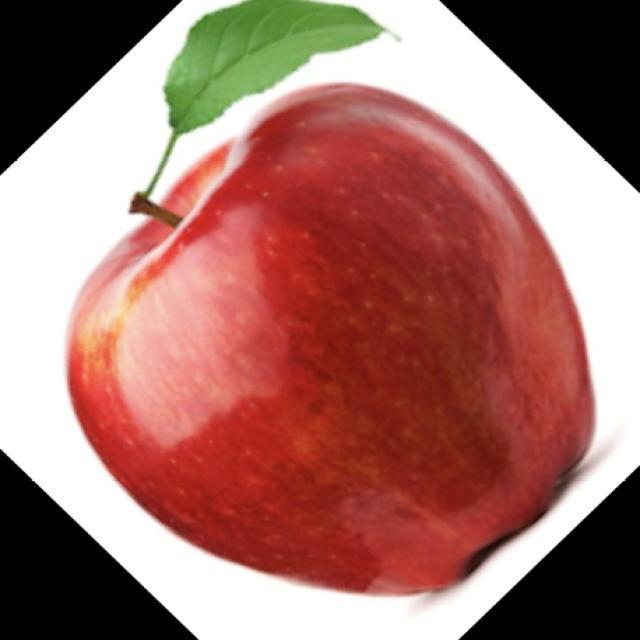Apple: (64, 81, 597, 597)
